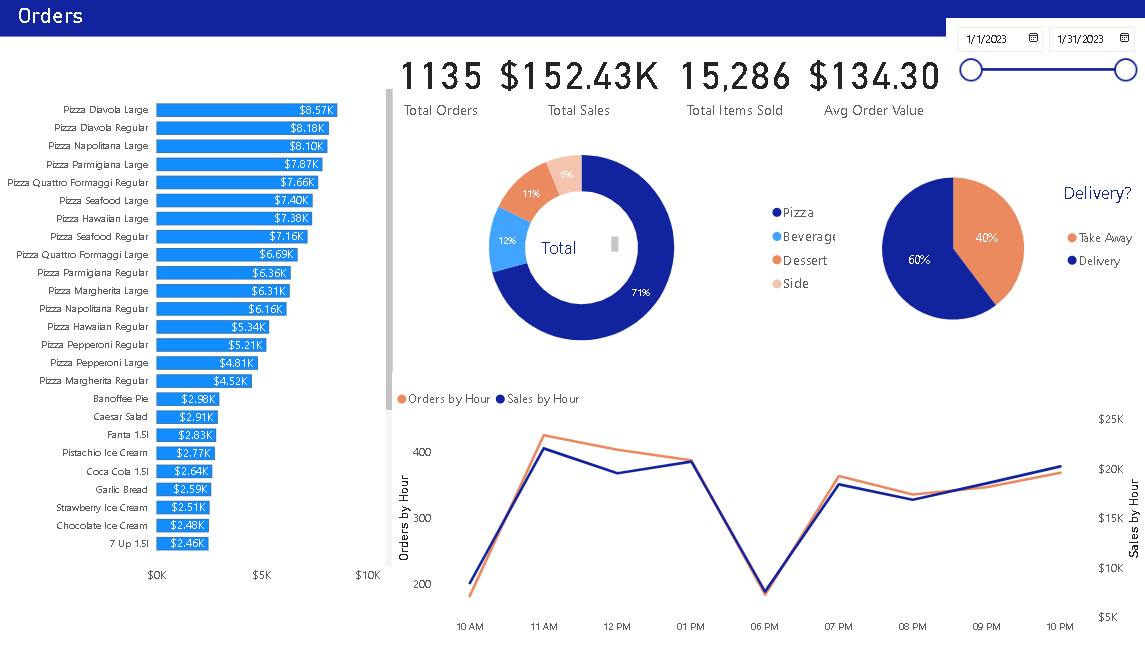

What the dashboard file says about the page in this screenshot:
{"tool":"powerbi","page":{"name":"Orders","canvas":[1280,720],"ordinal":0},"visuals":[{"type":"card","fields":{"Values":["pizzadb orders.Total Orders"]},"box":[438.8,41.2,108.8,100],"z":0},{"type":"card","fields":{"Values":["pizzadb orders.Total Sales"]},"box":[547.5,41.2,198.8,100],"z":1000},{"type":"card","fields":{"Values":["pizzadb orders.Total Items Sold"]},"box":[746.2,41.2,150,100],"z":2000},{"type":"card","fields":{"Values":["pizzadb orders.Avg Order Value"]},"box":[896.2,41.2,161.2,100],"z":3000},{"type":"donutChart","fields":{"Y":["pizzadb orders.Sales(Category)"],"Category":["pizzadb item.item_cat"]},"box":[438.8,138.8,508.8,278.8],"z":4000},{"type":"clusteredBarChart","fields":{"Y":["pizzadb orders.Sell"],"Category":["pizzadb item.item_name"]},"box":[0,91.2,438.8,565],"z":5000},{"type":"pieChart","fields":{"Y":["pizzadb orders.Take Away","pizzadb orders.Delivery"]},"box":[933.8,141.2,346.2,276.2],"z":6000},{"type":"lineChart","fields":{"Y":["pizzadb orders.Orders by Hour"],"Y2":["pizzadb orders.Sales by Hour"],"Category":["pizzadb orders.Order Time"]},"box":[438.8,417.5,841.2,301.2],"z":7000},{"type":"textbox","box":[0,0,1280.2,41.9],"z":8000},{"type":"slicer","fields":{"Values":["pizzadb orders.created_at"]},"box":[1057.2,21.6,223.3,119.6],"z":9000},{"type":"textbox","box":[600,260,96.2,38.8],"z":10000},{"type":"textbox","box":[1183.8,198.8,96.2,40],"z":11000}]}

Visuals, with their boxes in screenshot pixels (x1, y1, x2, y2), scaled from the page's 1280x720 canvas onto the 1145x653 screenshot:
card - pizzadb orders.Total Orders: BBox(393, 37, 490, 128)
card - pizzadb orders.Total Sales: BBox(490, 37, 668, 128)
card - pizzadb orders.Total Items Sold: BBox(667, 37, 802, 128)
card - pizzadb orders.Avg Order Value: BBox(802, 37, 946, 128)
donutChart - pizzadb orders.Sales(Category) x pizzadb item.item_cat: BBox(393, 126, 848, 379)
clusteredBarChart - pizzadb orders.Sell x pizzadb item.item_name: BBox(0, 83, 393, 595)
pieChart - pizzadb orders.Take Away x pizzadb orders.Delivery: BBox(835, 128, 1144, 379)
lineChart - pizzadb orders.Orders by Hour x pizzadb orders.Sales by Hour: BBox(393, 379, 1144, 652)
textbox: BBox(0, 0, 1144, 38)
slicer - pizzadb orders.created_at: BBox(946, 20, 1144, 128)
textbox: BBox(537, 236, 623, 271)
textbox: BBox(1059, 180, 1144, 217)
